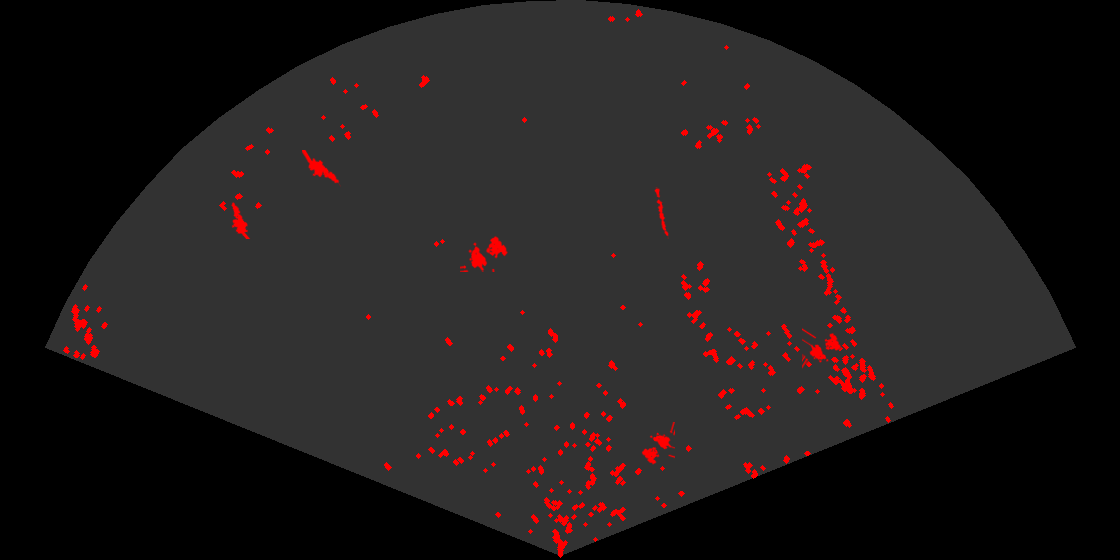cage: (460, 234, 509, 272), (802, 326, 843, 370), (640, 422, 675, 466)
chain: (653, 187, 670, 239)
frogman: (302, 150, 341, 188), (230, 201, 252, 239)
